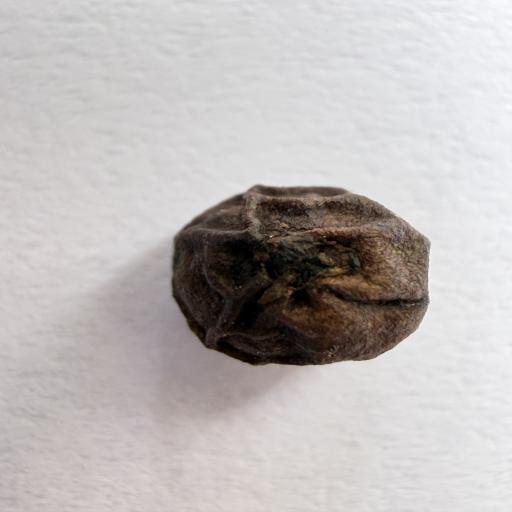Black_pepper: (124, 162, 456, 372)
